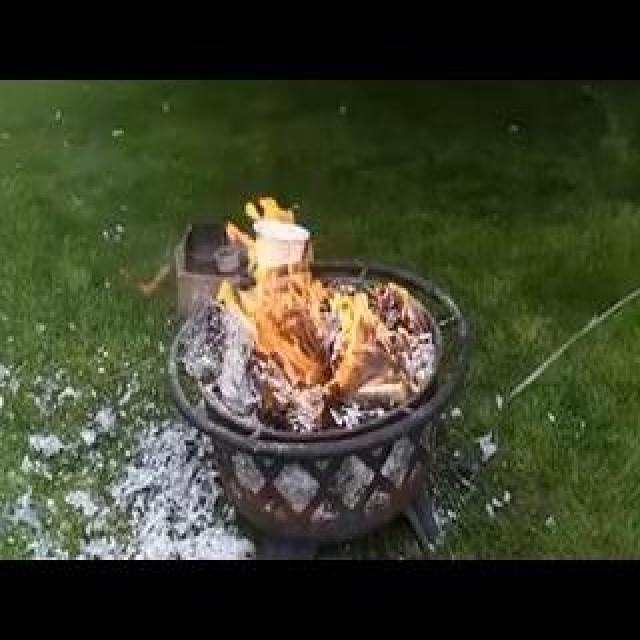Fire: (236, 262, 301, 320)
